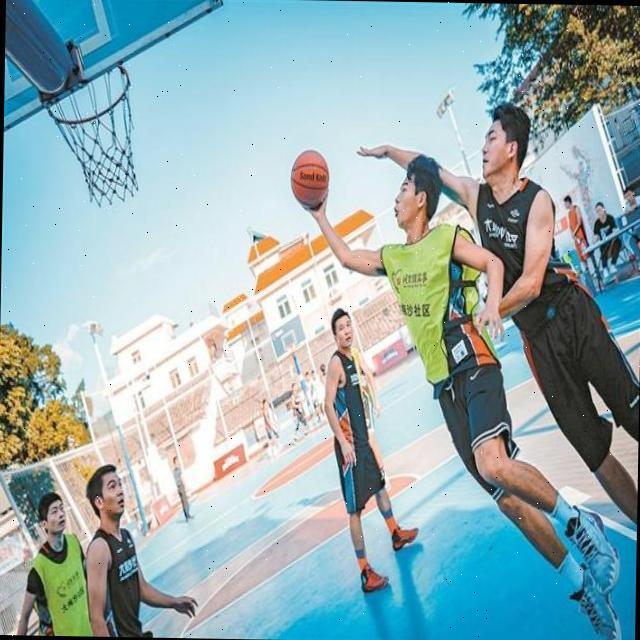ball: (289, 148, 330, 210)
